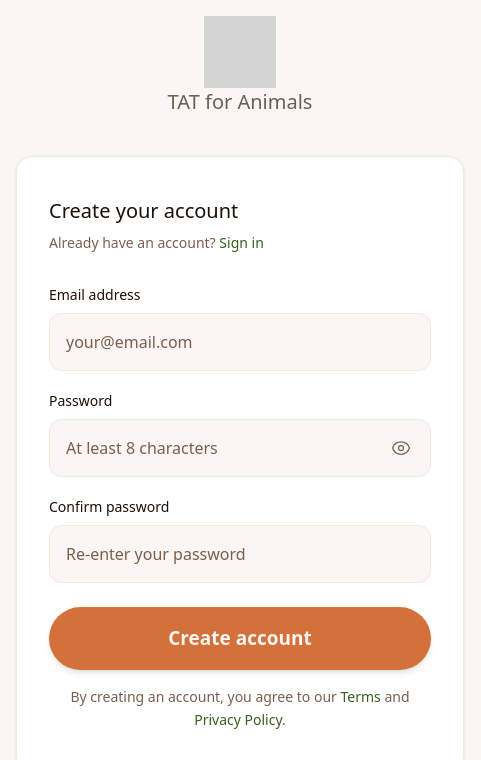
Test: SignupClient — success screen › shows confirmation screen after successful signup
The width and height of the screenshot is (481, 760).
Type "newuser@test.com" into the field labelled "Email address".
click(240, 342); type("newuser@test.com")  # box [49,313,431,371]
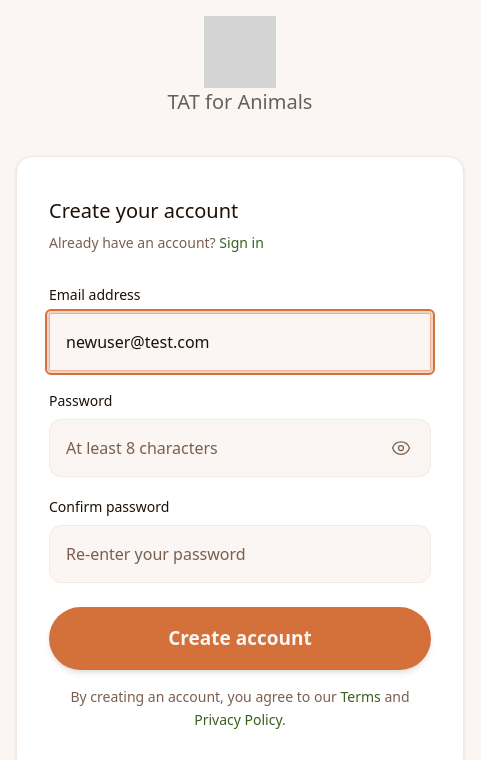
Type "password123" into the password field labelled "Password".
click(240, 448); type("password123")  # box [49,419,431,477]
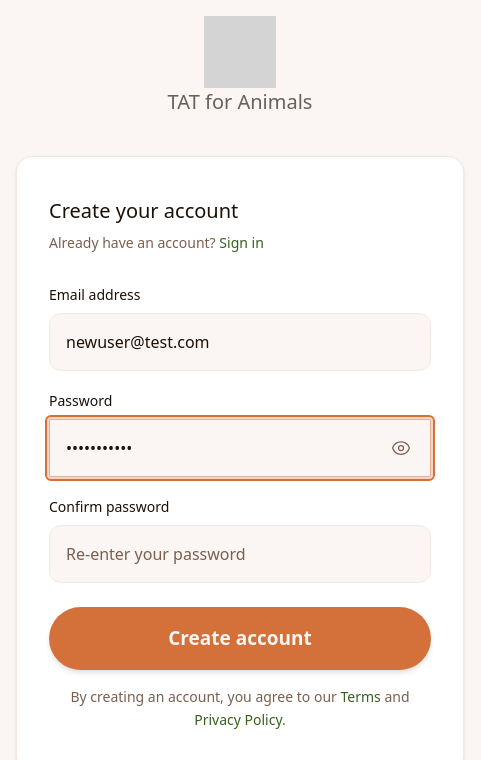
Type "password123" into the password field labelled "Confirm password".
click(240, 554); type("password123")  # box [49,525,431,583]
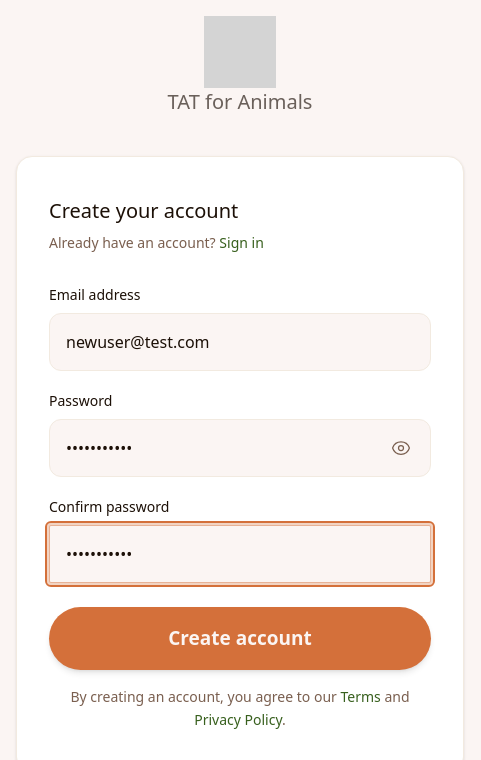
Click the button "Create account".
click(240, 639)  # box [49,607,431,670]
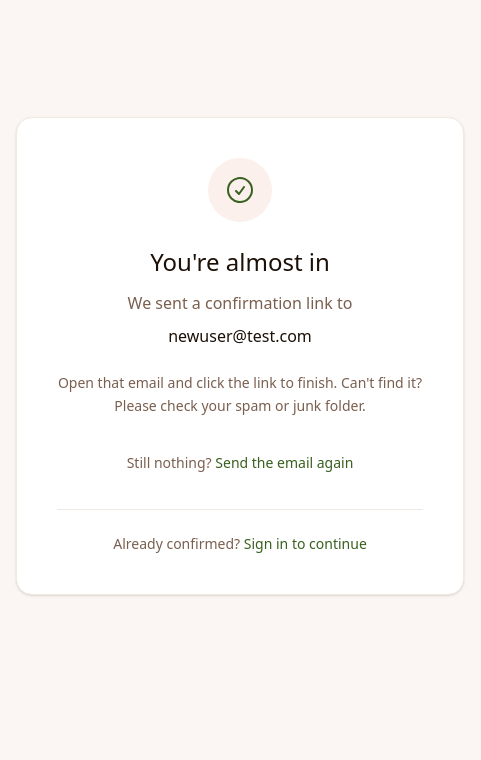
Expected: the heading "You're almost in" is shown, [150,245,330,278]
Expected: the text "newuser@test.com" is shown, [168,325,312,347]
